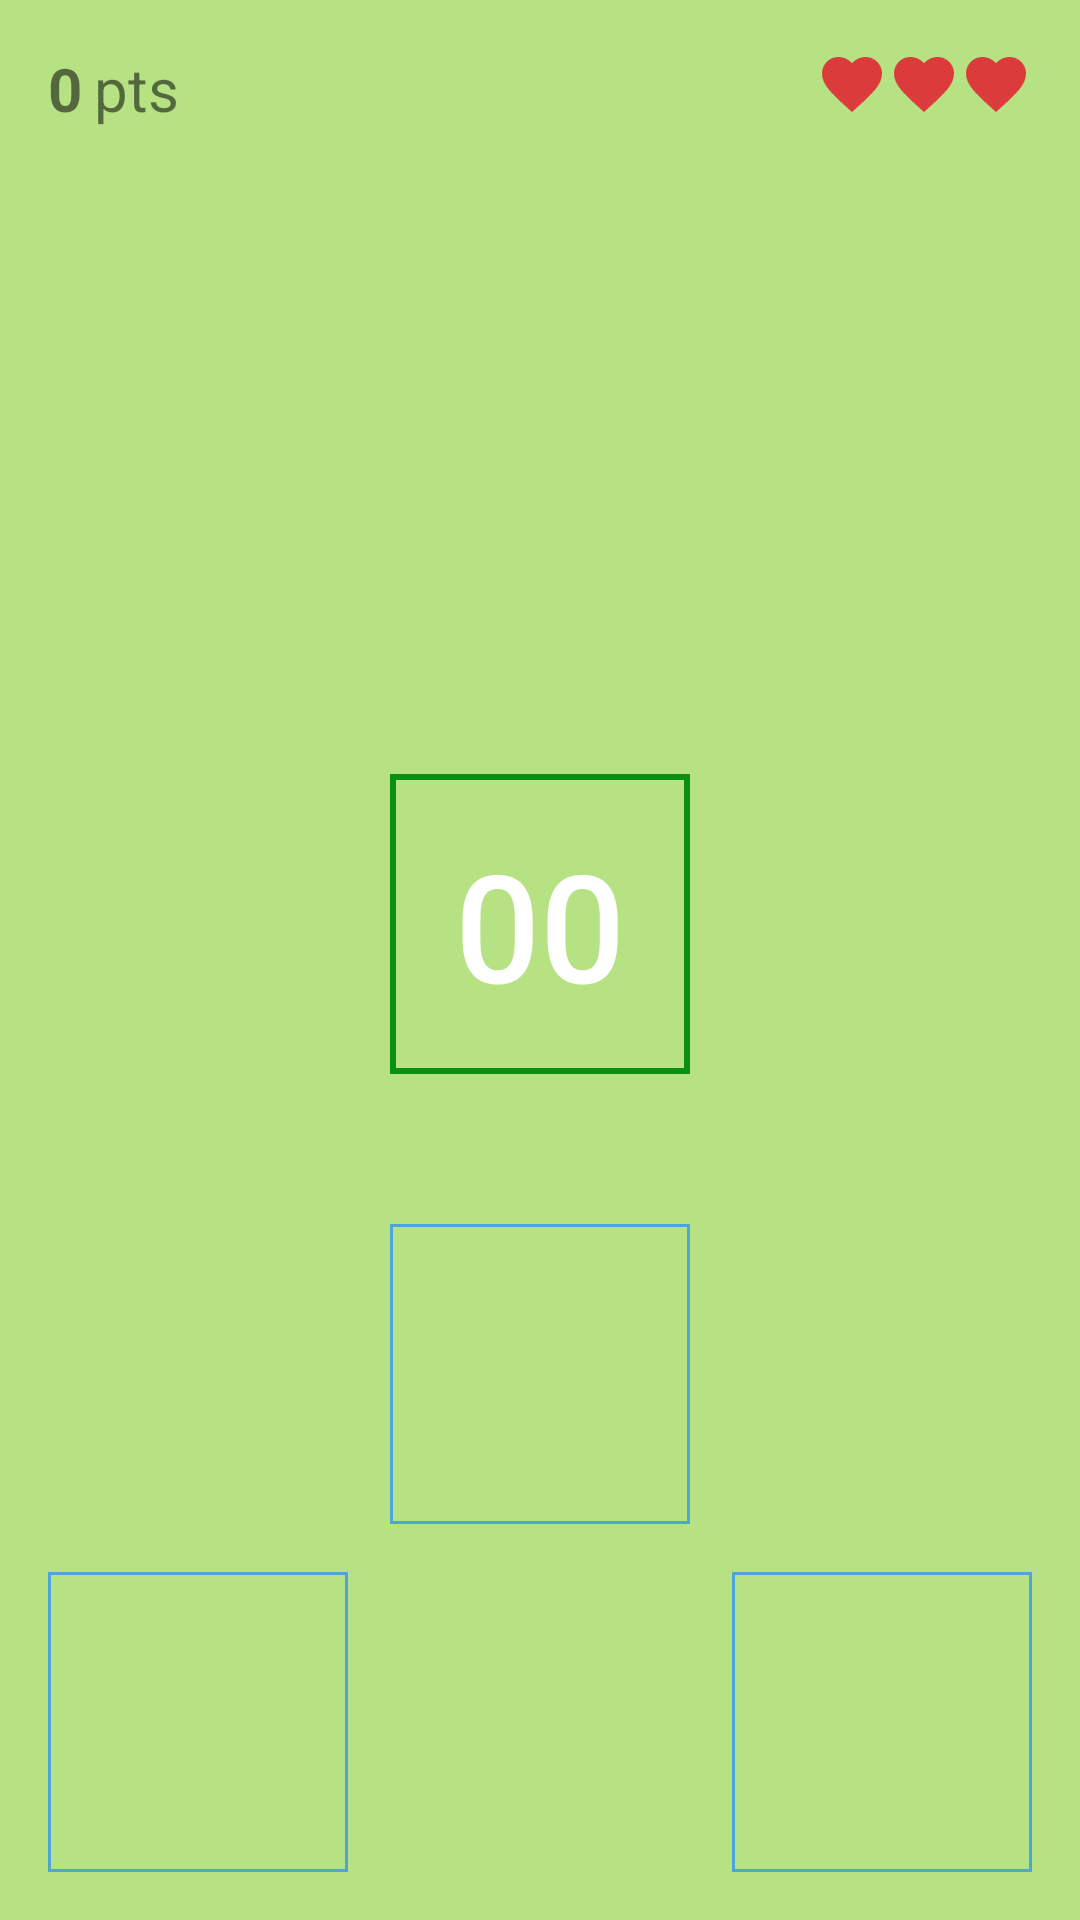

Named icons in this screenshot (1080w x 1920h) and their bounding boxes, [x1,y1,x2,y2]:
life: [822,57,882,112], [894,57,954,112], [966,57,1026,112]
